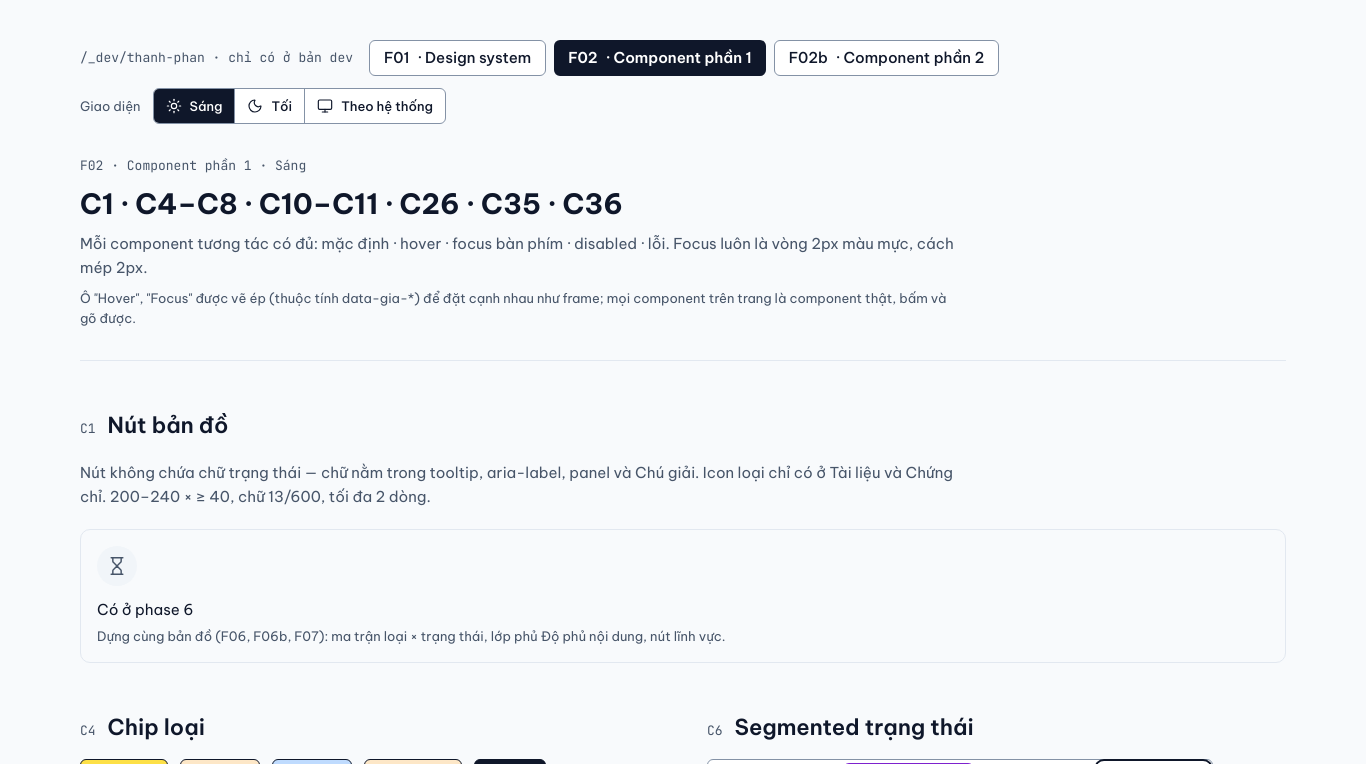
Scenario: gallery F02 (component phần 1) › đổi giao diện: nhãn frame đổi Sáng → Tối
Check: the heading "C1 · C4–C8 · C10–C11 · C26 · C35 · C36" is shown, box left=80, top=186, right=623, bottom=221
Check: the text "F02 · Component phần 1 · Sáng" is shown, box left=80, top=157, right=306, bottom=174
What coordinates should you click on to do the following:
click the radio button labelled "Tối"
I would click on:
 (269, 106)
Its box is left=234, top=89, right=304, bottom=123.
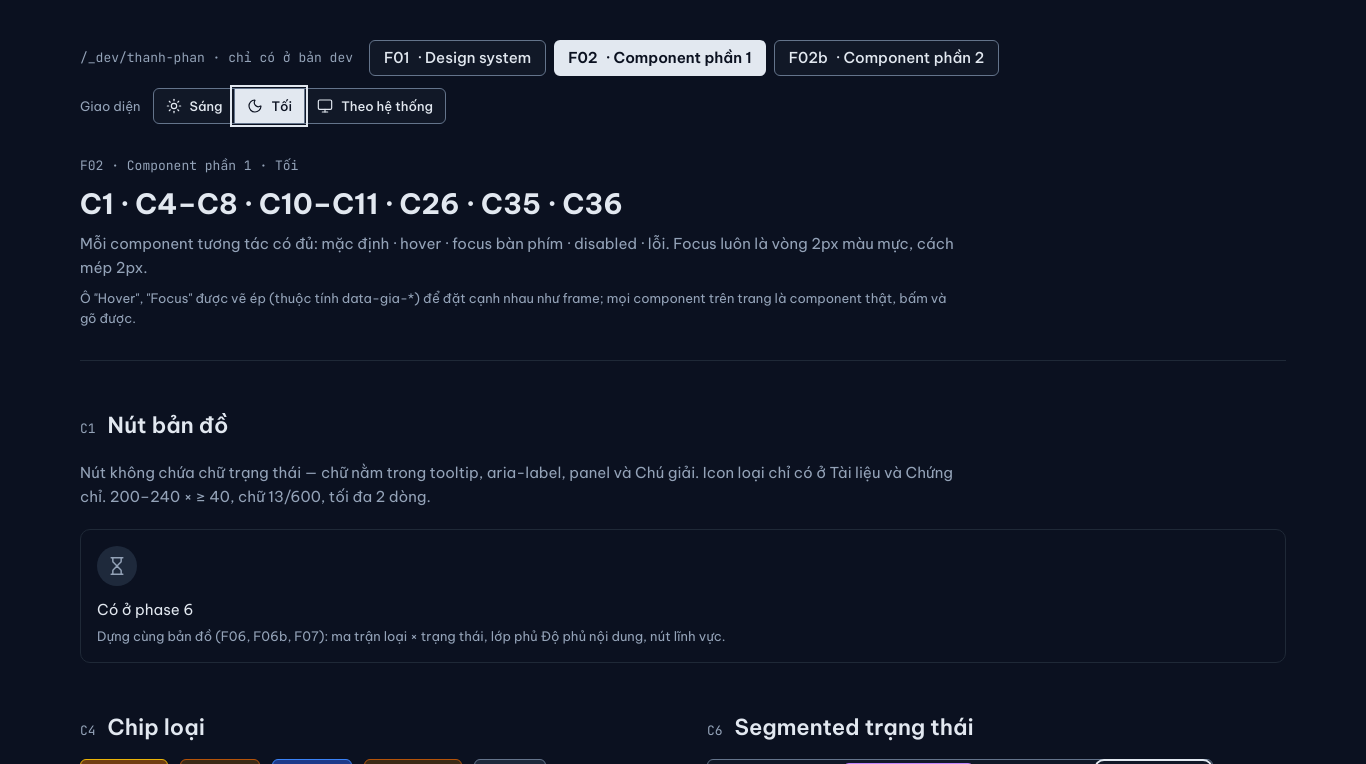
Check: the text "F02 · Component phần 1 · Tối" is shown, box left=80, top=157, right=298, bottom=174
